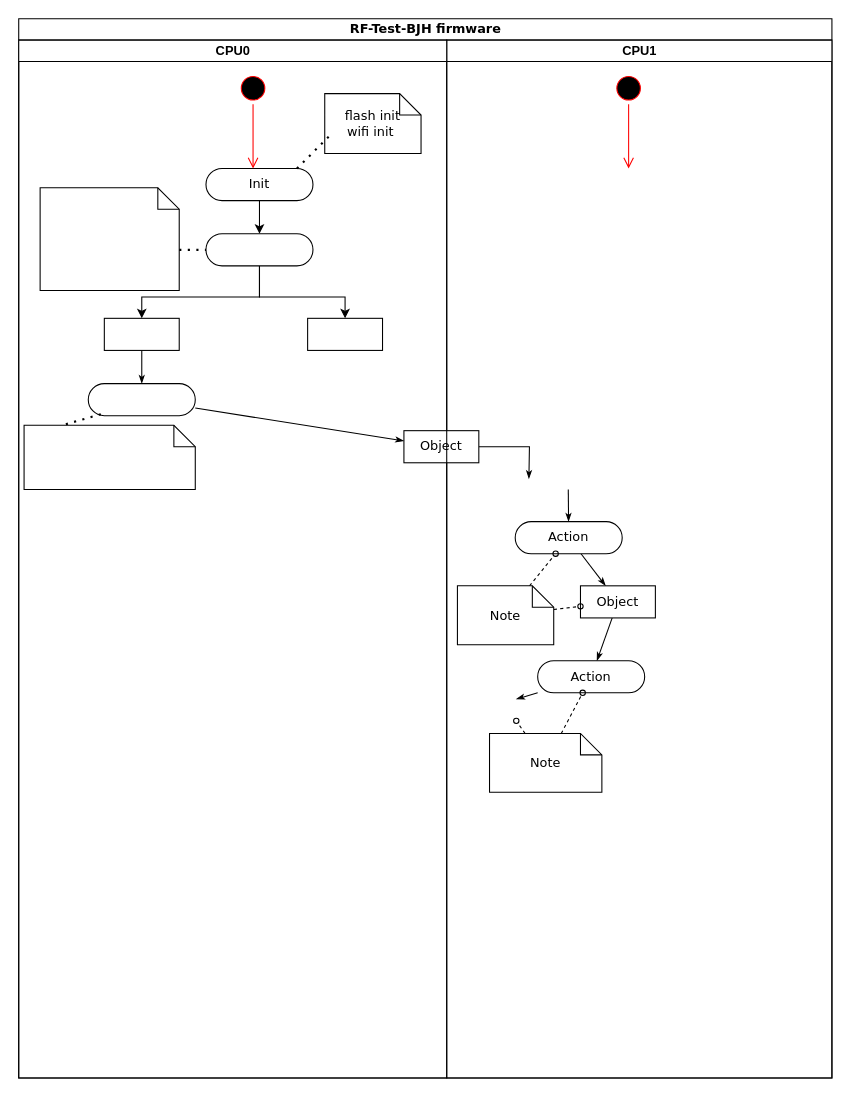
Some shapes in this 851 by 1097 pixel diagram are drawn without their labels. Each missing label, with the box of its shape:
init web server: (87, 383, 195, 416)
Register uri handler for web pages, websocket requests: (23, 424, 195, 490)
Task create: (205, 233, 313, 266)
Task0: (103, 317, 179, 350)
Task0 : web/websocket server Task1 : get measurment data: (39, 187, 179, 291)
Task1: (307, 317, 383, 350)
